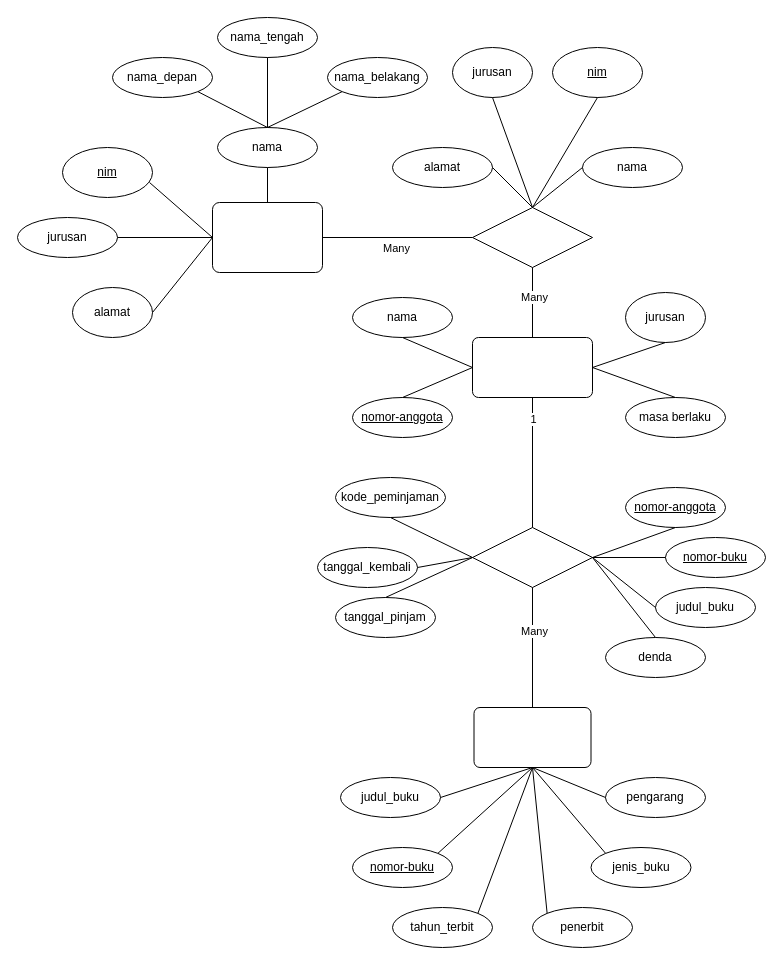
This 783x965 diagram has some shape labels left out. The centre of each missing label's shape, as x and y in pixels:
"Anggota perpustakaan" goes at point (532, 367).
"Buku" goes at point (532, 737).
"Mahasiswa" goes at point (267, 237).
"Memminjam" goes at point (532, 557).
"mendaftar" goes at point (532, 237).
